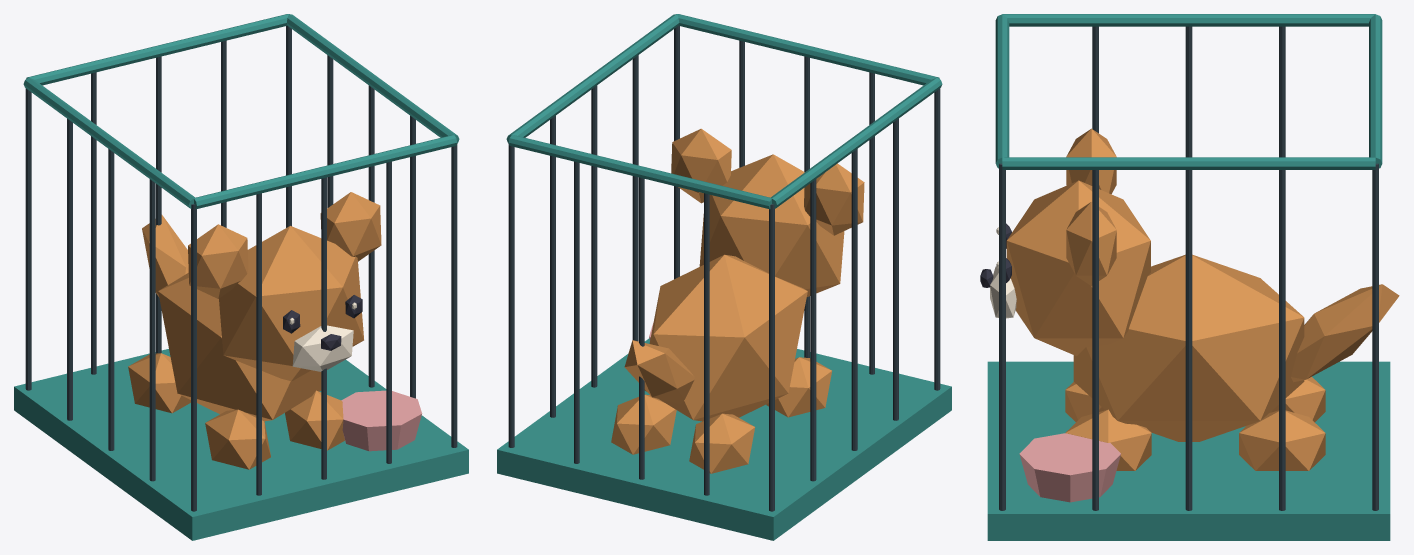
Rendered from pet_hamster.glb.
The picture shows the model from 3 angles, left to right: view 1: azimuth 30°, elevation 25°; view 2: azimuth 150°, elevation 25°; view 3: azimuth 270°, elevation 25°; orthographic projection. The views are drawn at different scales.
Parts seen in each view (by area): view 1: cage_base, head, body, food_bowl, cage_top, ear, cage_top.001, ear.001, paw, cage_top.002, cage_top.003, paw.001 (+19 smaller); view 2: cage_base, body, head, cage_top.001, cage_top, tail_bob, ear.001, back_paw, ear, back_paw.001, cage_top.002, cage_top.003 (+17 smaller); view 3: cage_base, body, head, food_bowl, tail_bob, cage_top.003, cage_top.002, back_paw.001, ear.001, cage_bar.007, paw.001, cage_bar.005 (+12 smaller).
Boxes of the visible parts, bbox=[...] form: cage_base: bbox=[14, 349, 468, 540]; head: bbox=[219, 226, 363, 381]; body: bbox=[158, 273, 321, 421]; food_bowl: bbox=[341, 390, 422, 451]; cage_top: bbox=[194, 135, 457, 209]; ear: bbox=[188, 224, 248, 298]; cage_top.001: bbox=[26, 14, 288, 85]; ear.001: bbox=[320, 192, 381, 261]; paw: bbox=[205, 409, 270, 469]; cage_top.002: bbox=[23, 77, 195, 208]; cage_top.003: bbox=[287, 14, 459, 143]; paw.001: bbox=[285, 390, 344, 450]; cage_base: bbox=[497, 338, 951, 540]; body: bbox=[644, 254, 807, 421]; head: bbox=[699, 154, 844, 296]; cage_top.001: bbox=[508, 135, 771, 209]; cage_top: bbox=[677, 14, 939, 85]; tail_bob: bbox=[624, 340, 694, 403]; ear.001: bbox=[671, 128, 731, 203]; back_paw: bbox=[689, 413, 755, 473]; ear: bbox=[804, 163, 864, 235]; back_paw.001: bbox=[611, 394, 676, 454]; cage_top.002: bbox=[770, 77, 942, 208]; cage_top.003: bbox=[506, 14, 678, 143]; cage_base: bbox=[987, 361, 1390, 540]; body: bbox=[1073, 254, 1304, 441]; head: bbox=[1006, 180, 1150, 356]; food_bowl: bbox=[1019, 433, 1120, 502]; tail_bob: bbox=[1291, 284, 1399, 382]; cage_top.003: bbox=[1002, 157, 1375, 169]; cage_top.002: bbox=[1002, 14, 1375, 26]; back_paw.001: bbox=[1239, 410, 1325, 470]; ear.001: bbox=[1066, 202, 1116, 285]; cage_bar.007: bbox=[1185, 170, 1192, 510]; paw.001: bbox=[1065, 409, 1151, 470]; cage_bar.005: bbox=[999, 163, 1005, 510].
Size of the model in its own units: 0.85 by 0.986 by 0.9891.
